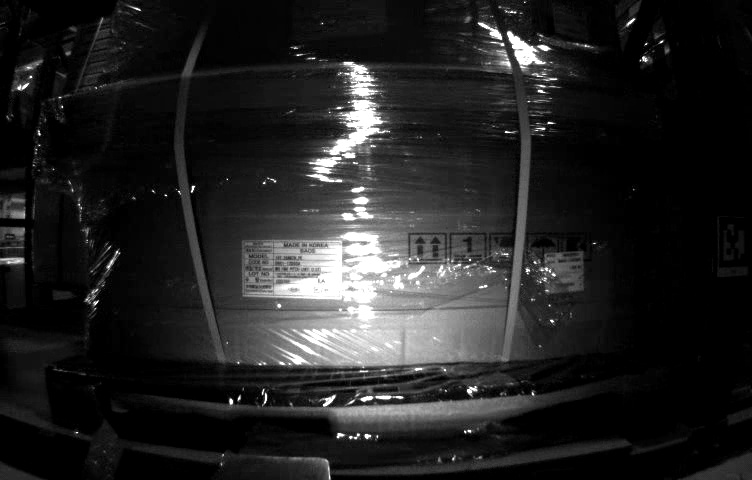True Barcode: (542, 250, 585, 293)
